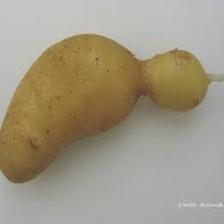Damaged potato: (0, 24, 224, 175)
